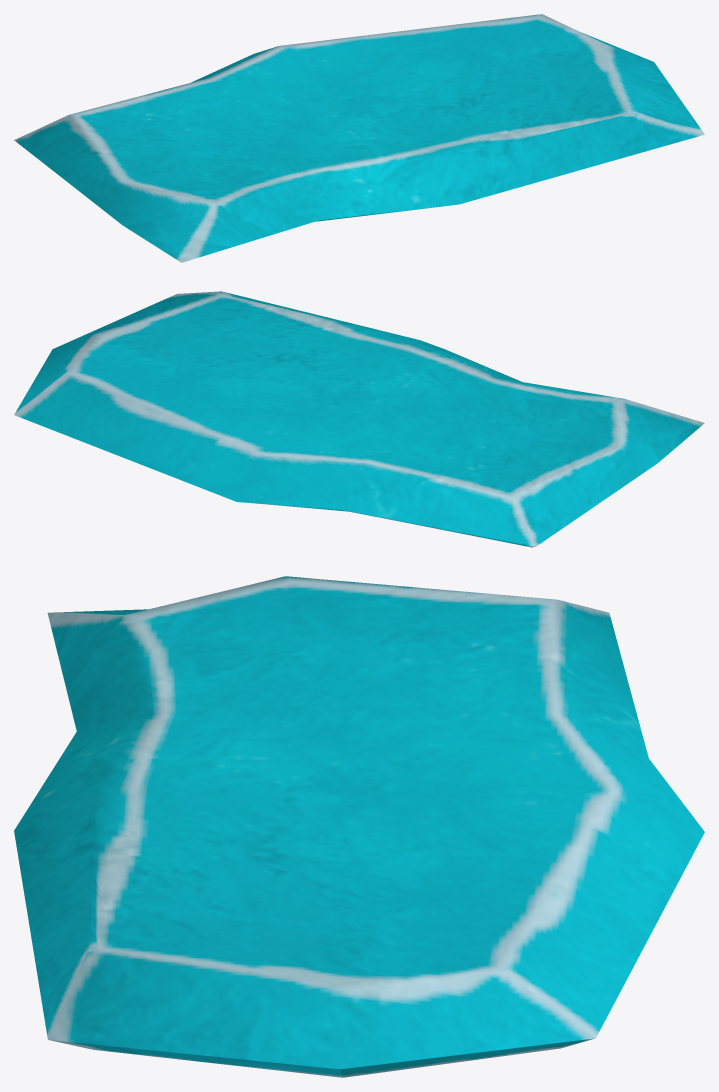
The model's file is iceBlock.fbx.
3 renders of one model, top to bottom at view 1: azimuth 30°, elevation 25°; view 2: azimuth 150°, elevation 25°; view 3: azimuth 270°, elevation 25°, orthographic. The views are drawn at different scales.
Parts seen in each view (by area): view 1: iceBlock_geo; view 2: iceBlock_geo; view 3: iceBlock_geo.
Part boxes in pixels (bbox=[...]): iceBlock_geo: bbox=[14, 14, 704, 262]; iceBlock_geo: bbox=[14, 291, 704, 547]; iceBlock_geo: bbox=[14, 576, 704, 1077].
Size of the model in its own units: 301 by 20.6 by 190.
